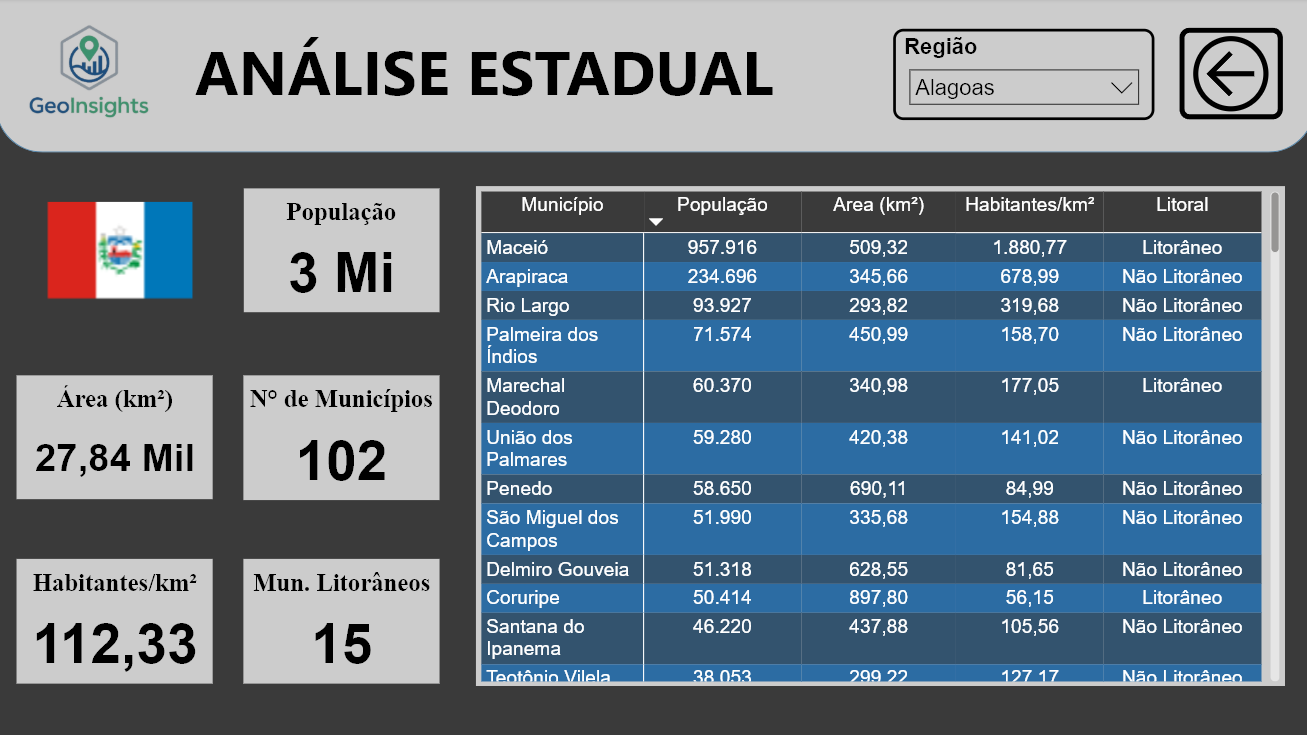

The page's visual inventory and layout, read from the dashboard file:
{"tool":"powerbi","page":{"name":"Estadual","canvas":[1280,720],"ordinal":2},"visuals":[{"type":"shape","box":[0,0,1280,150.4],"z":0},{"type":"image","box":[0,0,179.9,148.9],"z":1000},{"type":"card","title":"N° de Municípios","fields":{"Values":["CountNonNull(Dados_Municipios.Município)"]},"box":[240,366,190,121],"z":2000},{"type":"card","title":"População","fields":{"Values":["Sum(Dados_Municipios.População)"]},"box":[240,184.6,190,120],"z":3000},{"type":"card","title":"Área (km²)","fields":{"Values":["Dados_Municipios.Area total"]},"box":[20.2,366,190.8,120],"z":4000},{"type":"card","title":"Habitantes/km²","fields":{"Values":["Dados_Municipios.Densidade Demográfica"]},"box":[20.2,544.4,190.8,121],"z":5000},{"type":"card","title":"Mun. Litorâneos","fields":{"Values":["Estados_Litoral.Mun Litoraneos"]},"box":[240,544,190.8,121],"z":6000},{"type":"pivotTable","fields":{"Values":["Sum(Dados_Municipios.População)","Dados_Municipios.Area total","Dados_Municipios.Densidade Demográfica","Min(Dados_Municipios.Litoraneo (Texto))"],"Rows":["Dados_Municipios.Município"]},"box":[465.3,183,784.7,485.4],"z":7000},{"type":"slicer","title":"Região","fields":{"Values":["Coordenadas_Estados.Estado"]},"box":[870.5,29.7,253.9,89],"z":8000},{"type":"actionButton","box":[1148.7,29.3,100.5,89],"z":9000},{"type":"ImageGrid_FC5183B9_926C_45E0_B5F7_0CE9EAF1DA9B","fields":{"ImageURL":["bandeiras_estados.Bandeira_Baixa"],"ImageURLHQ":["bandeiras_estados.Bandeira_Alta"]},"box":[0,170.6,240.4,150.4],"z":10000}]}

Visuals, with their boxes in screenshot pixels (x1, y1, x2, y2), scaled from the page's 1280x720 canvas onto the 1307x735 screenshot:
shape: (left=0, top=0, right=1306, bottom=154)
image: (left=0, top=0, right=184, bottom=152)
"N° de Municípios" card: (left=245, top=374, right=439, bottom=497)
"População" card: (left=245, top=188, right=439, bottom=311)
"Área (km²)" card: (left=21, top=374, right=215, bottom=496)
"Habitantes/km²" card: (left=21, top=556, right=215, bottom=679)
"Mun. Litorâneos" card: (left=245, top=555, right=440, bottom=679)
pivotTable - Sum(Dados_Municipios.População) x Dados_Municipios.Area total: (left=475, top=187, right=1276, bottom=682)
"Região" slicer: (left=889, top=30, right=1148, bottom=121)
actionButton: (left=1173, top=30, right=1276, bottom=121)
ImageGrid_FC5183B9_926C_45E0_B5F7_0CE9EAF1DA9B - bandeiras_estados.Bandeira_Baixa x bandeiras_estados.Bandeira_Alta: (left=0, top=174, right=245, bottom=328)
